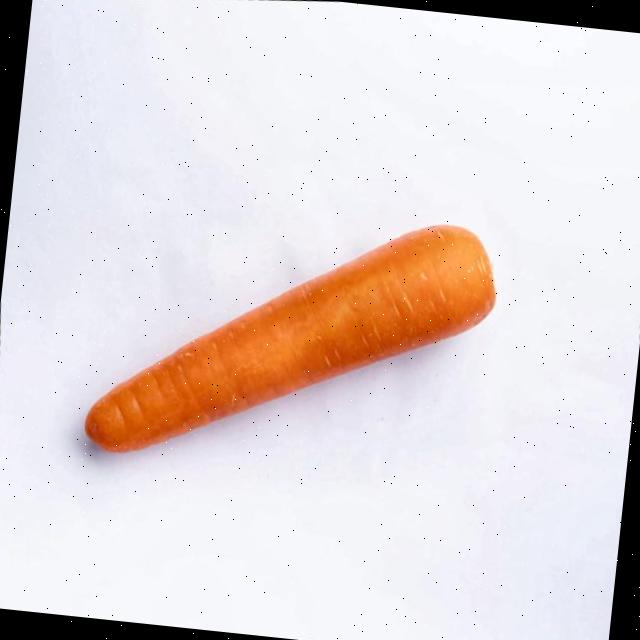carrot: (84, 224, 494, 450)
